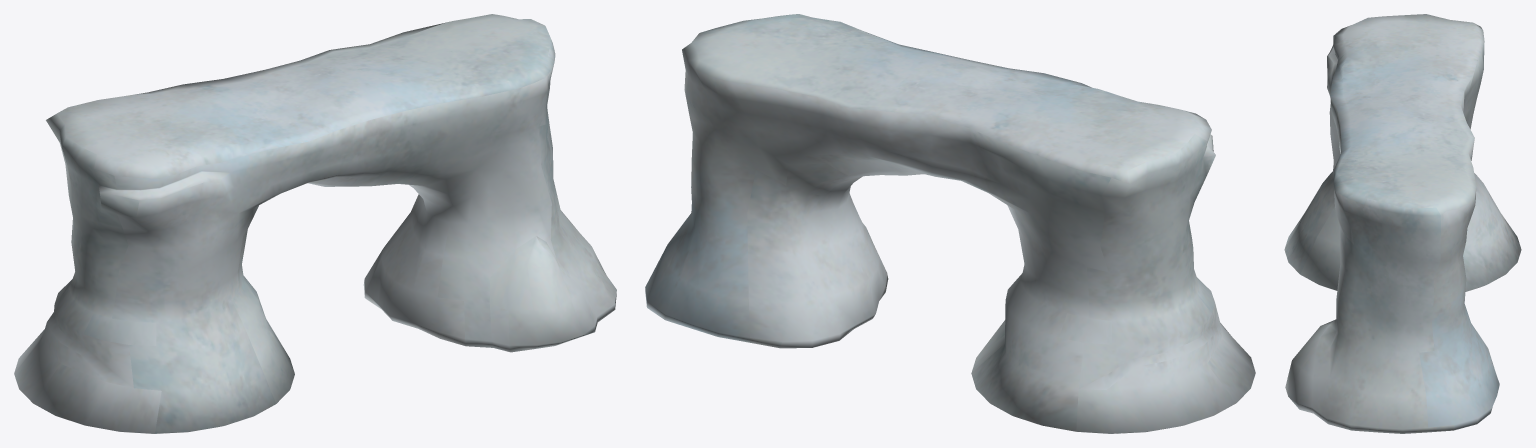
The model's file is P_RockDesert_CliffB08.obj.
3 views of the same model, side by side, from view 1: azimuth 30°, elevation 25°; view 2: azimuth 150°, elevation 25°; view 3: azimuth 270°, elevation 25° (orthographic). The views are drawn at different scales.
Size of the model in its own units: 122 by 52.91 by 53.18.
